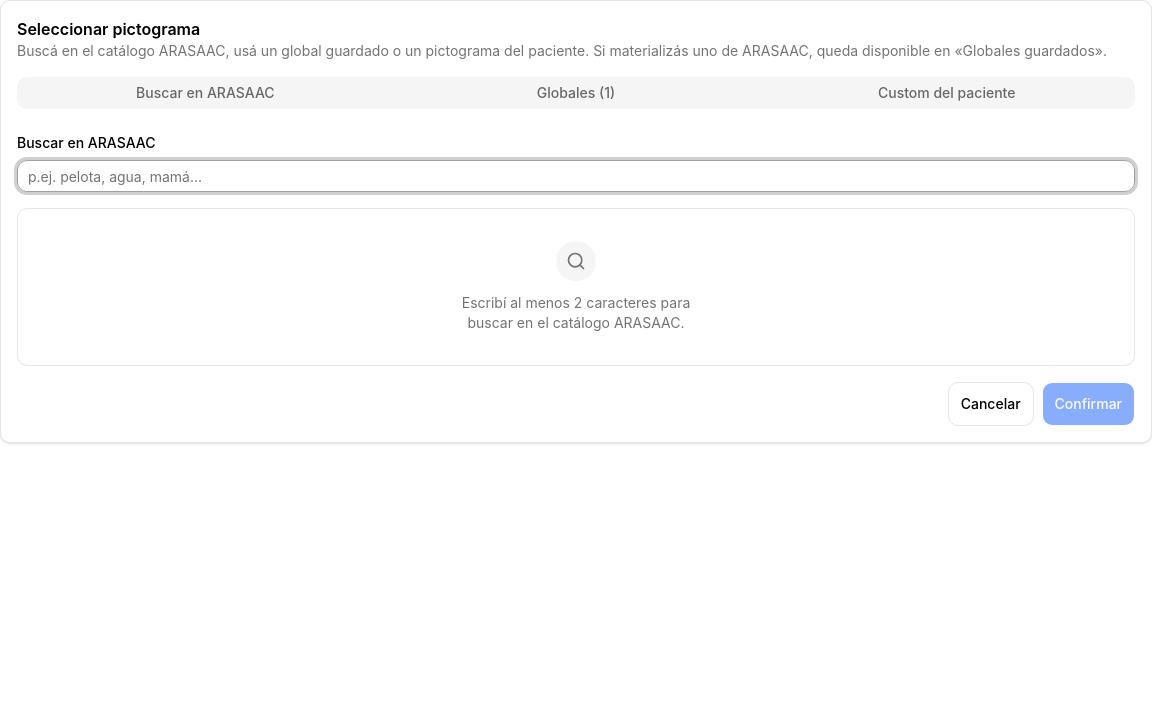
Scenario: SeleccionPictograma — guards durante materialize en vuelo (Commit 1, tarea 4.6) › Confirmar usa aria-disabled/aria-busy (no disabled) y Cancelar queda disabled durante el POST
This screenshot has width=1152, height=720.
Type "pelota" into the field labelled "Buscar en ARASAAC" at (576, 176), box [17,160,1135,192]
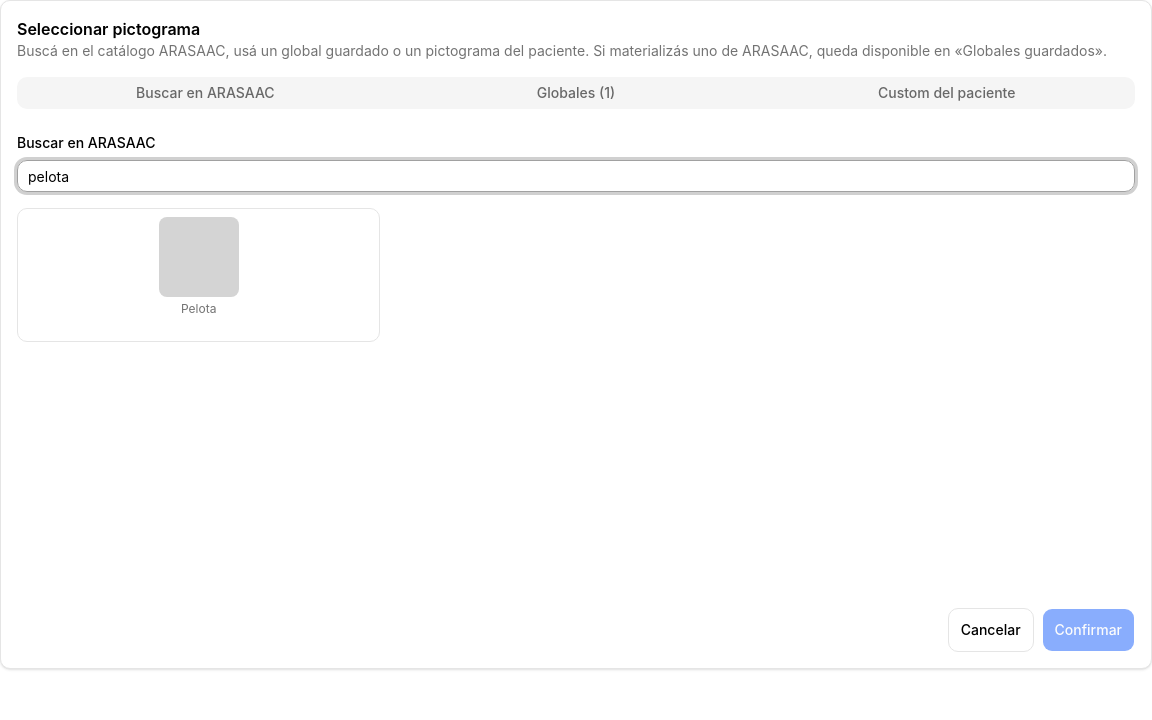
Click the radio button labelled "Pelota" at (199, 275), box [17,208,380,342]
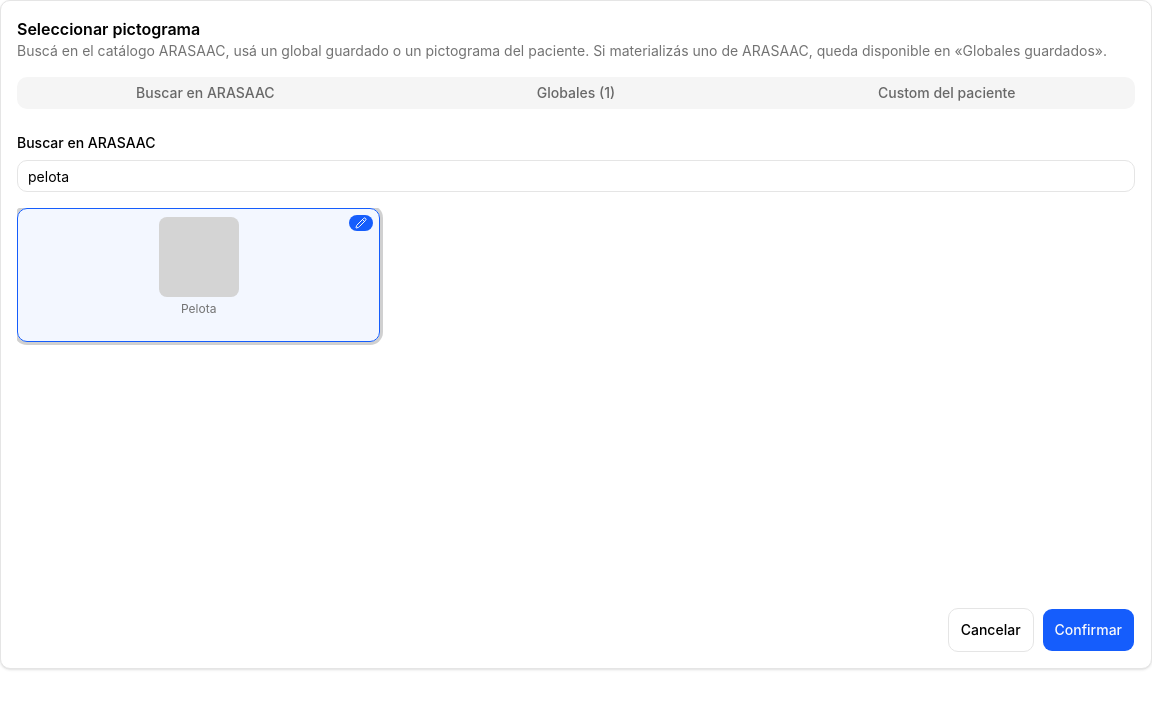
Click the button "Confirmar" at (1088, 630), box [1042,608,1135,652]
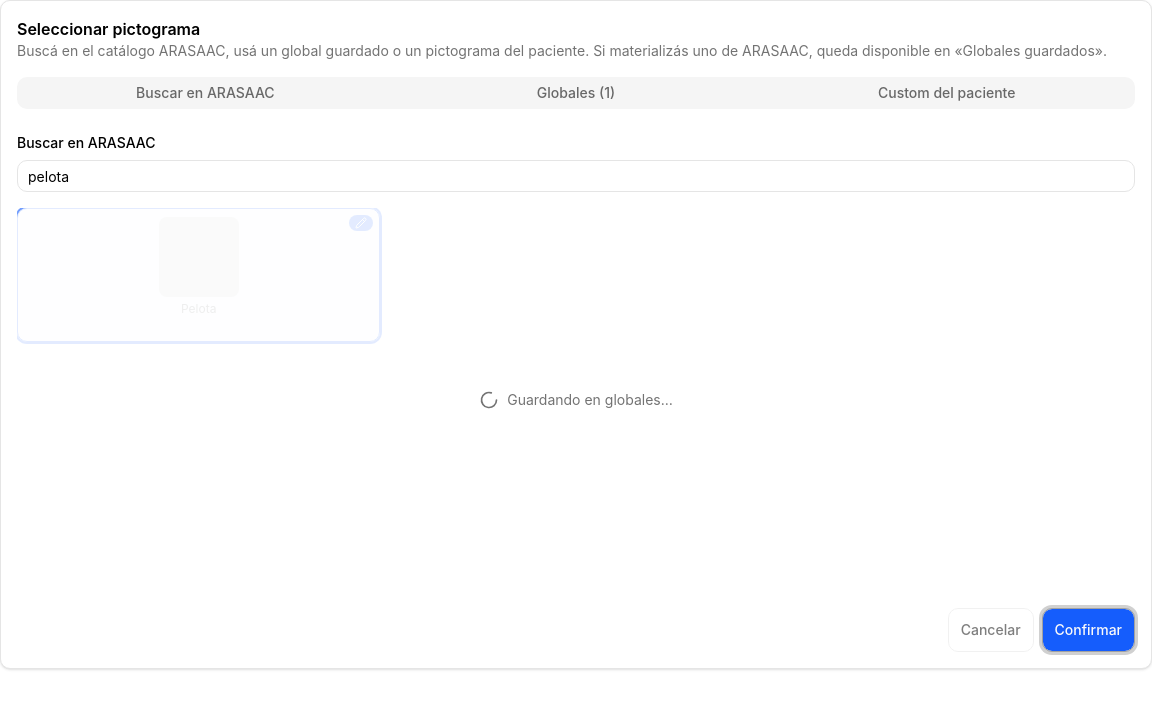
Now the button "Cancelar" is disabled, box [948,608,1034,652]
